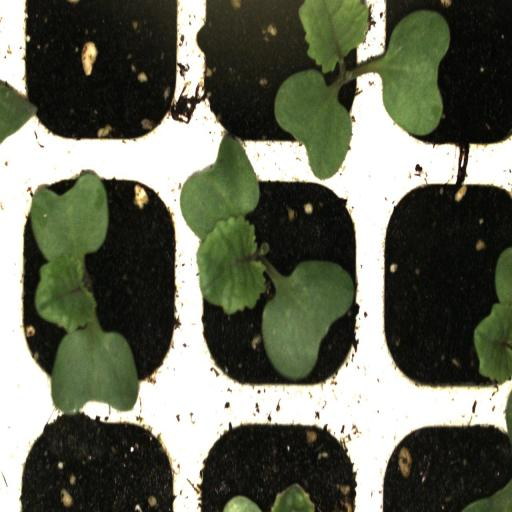noseedling: (10, 0, 188, 154)
seedling: (6, 157, 188, 398), (191, 160, 368, 401), (192, 0, 368, 161)
